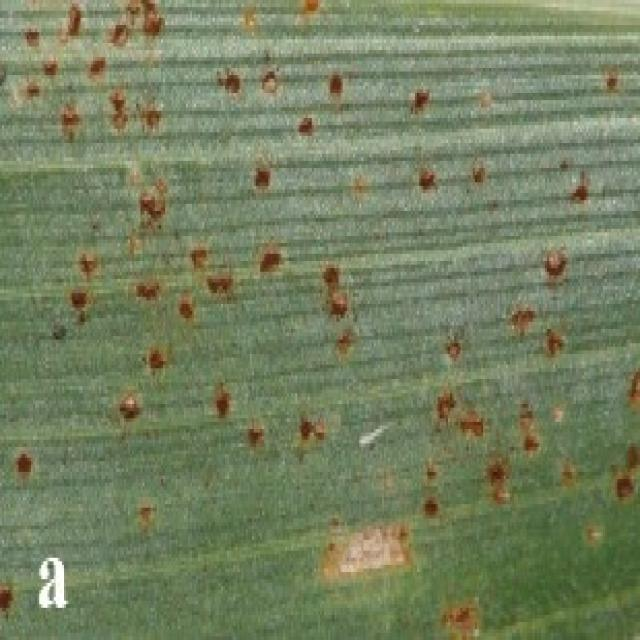Corn_Rust: (4, 0, 640, 547)
